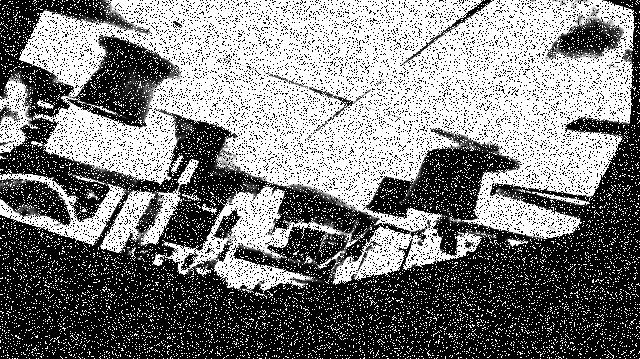pot: (62, 43, 166, 127), (398, 149, 483, 219), (180, 122, 225, 164), (365, 176, 409, 217)
